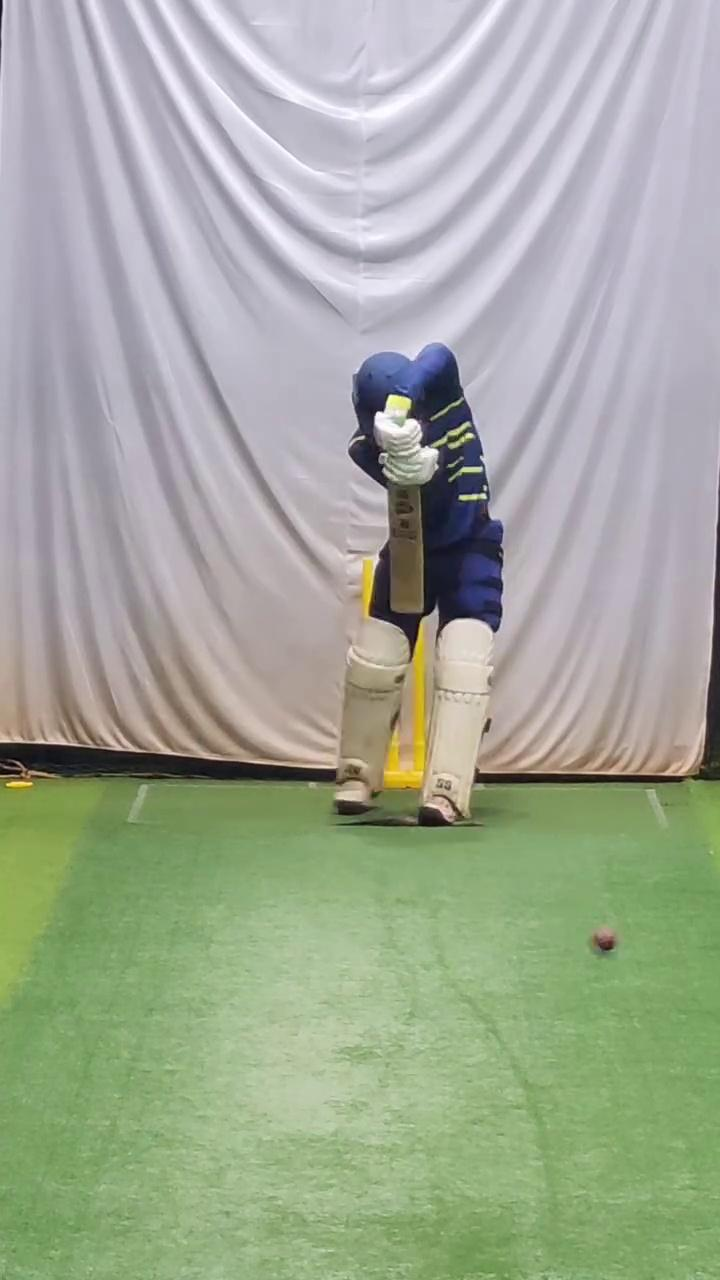bat: (386, 482, 424, 615)
